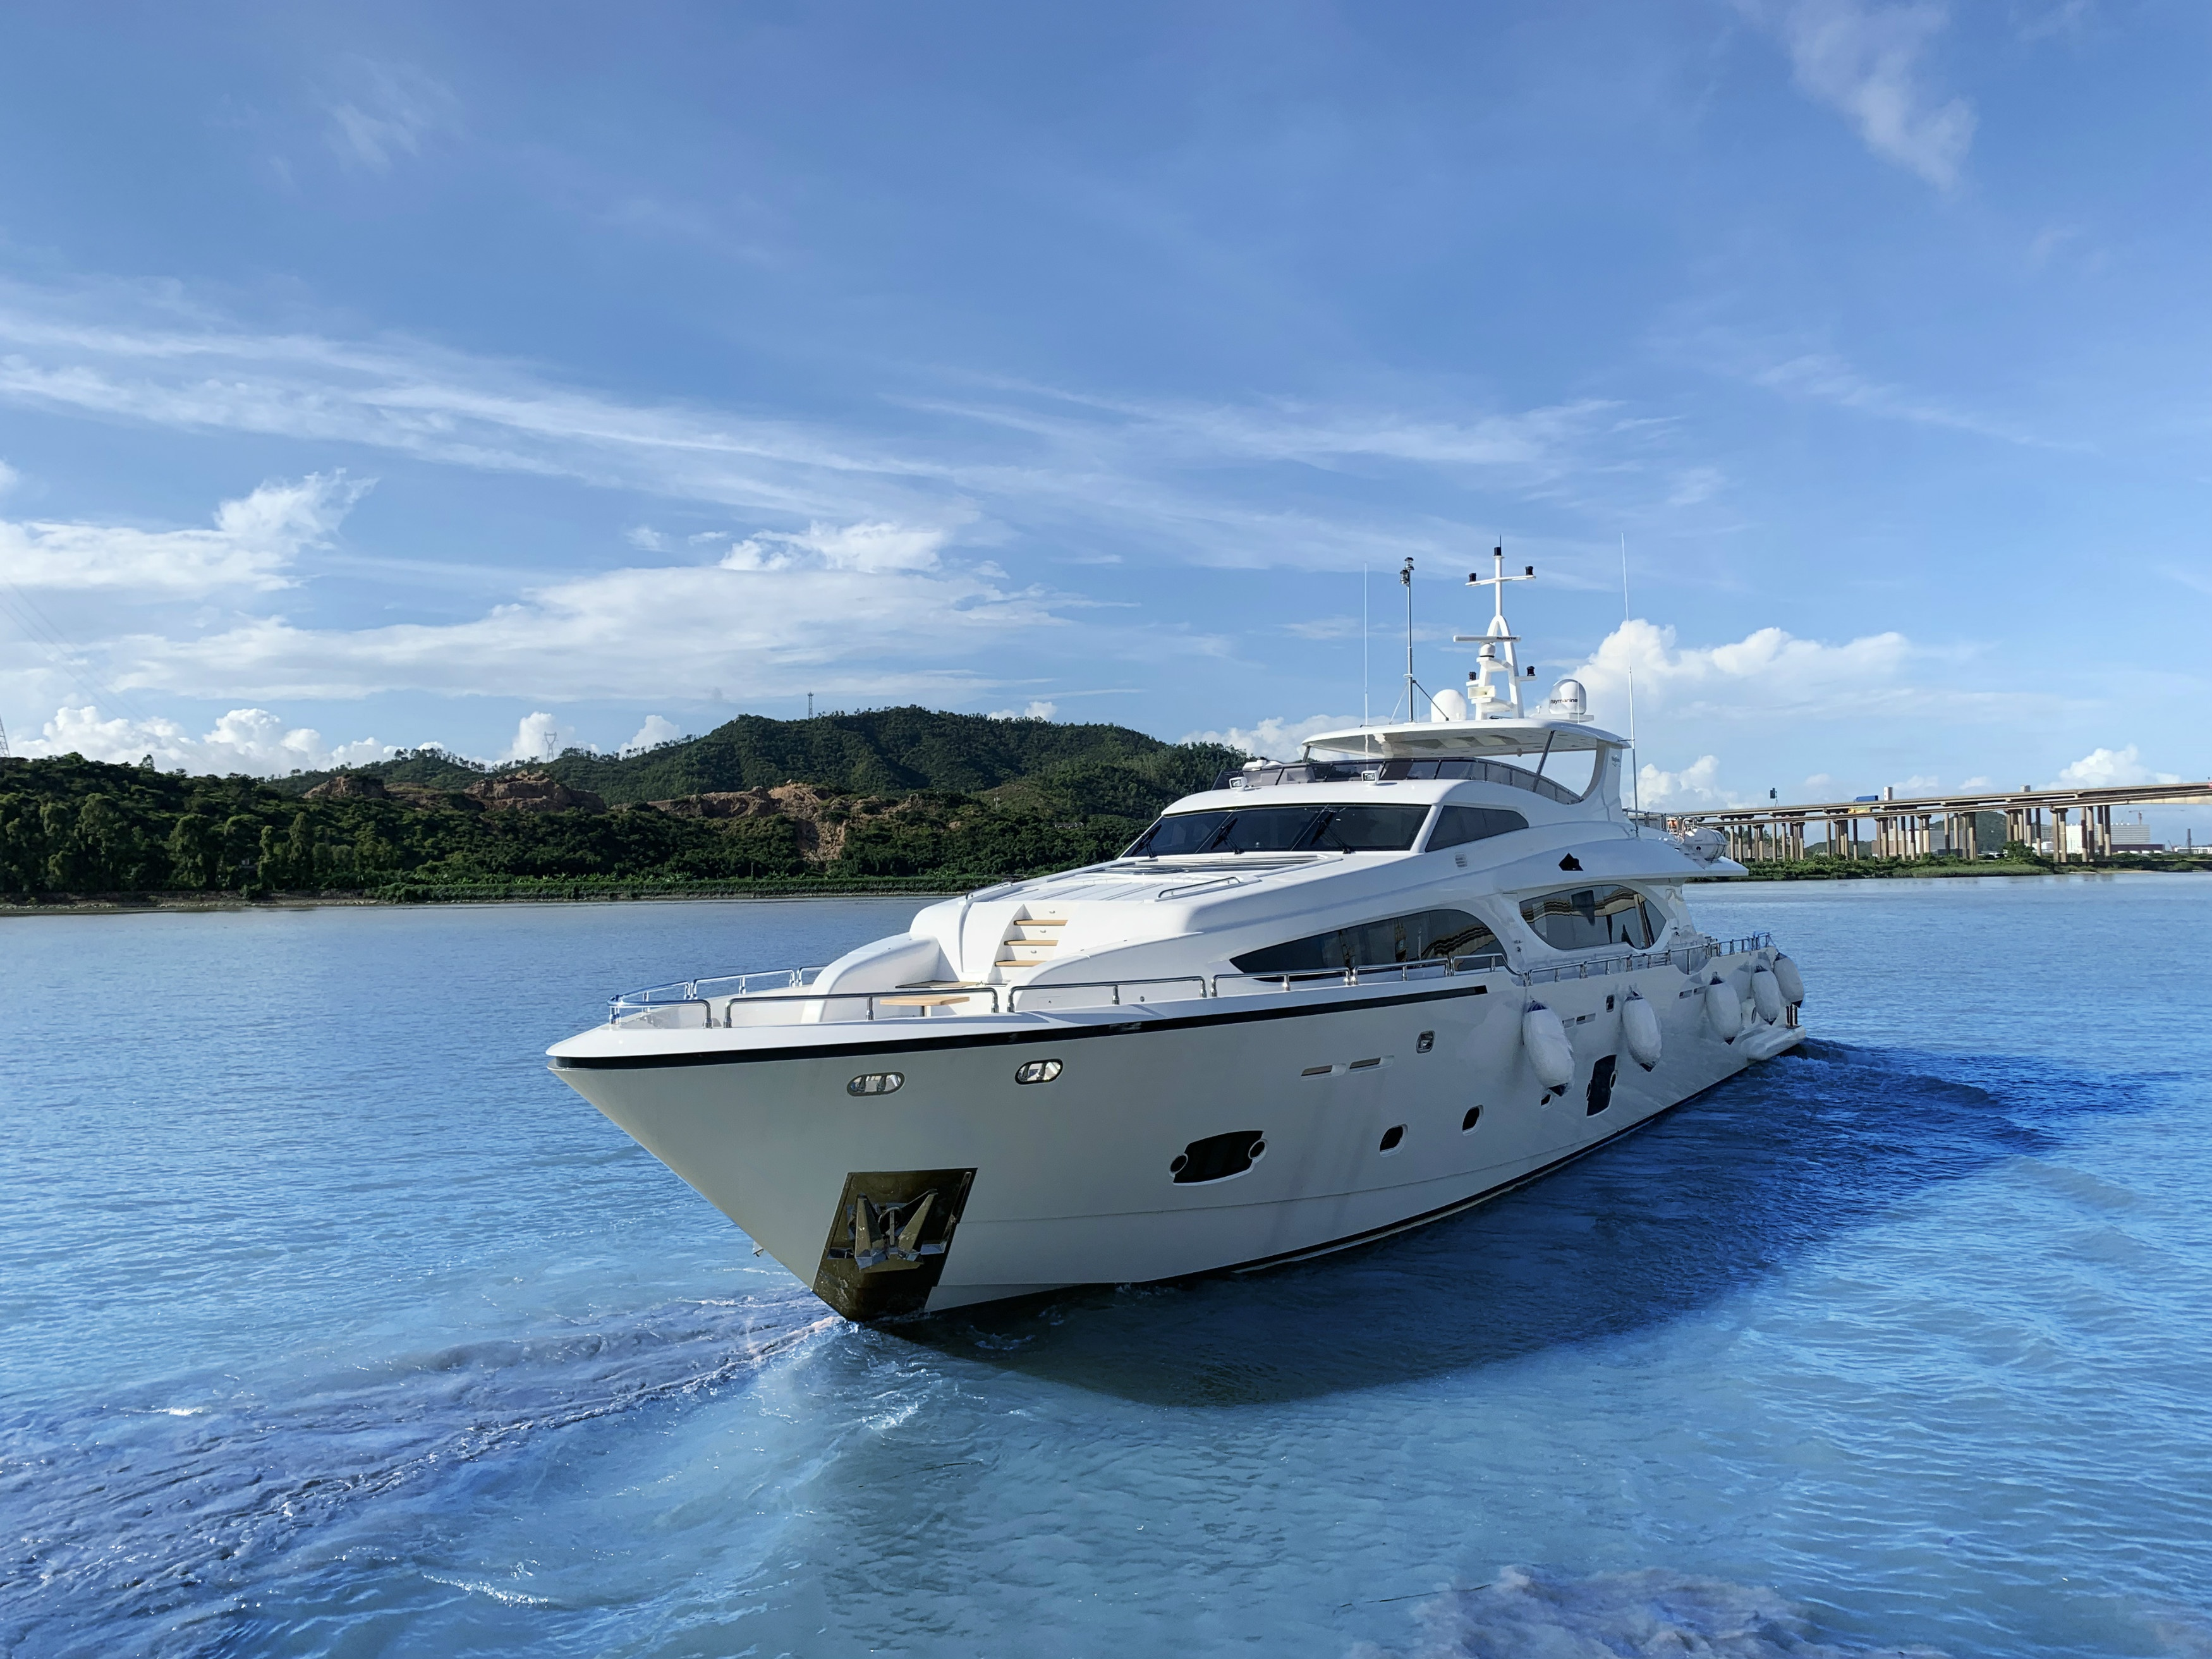yacht: (529, 523, 1815, 1354)
